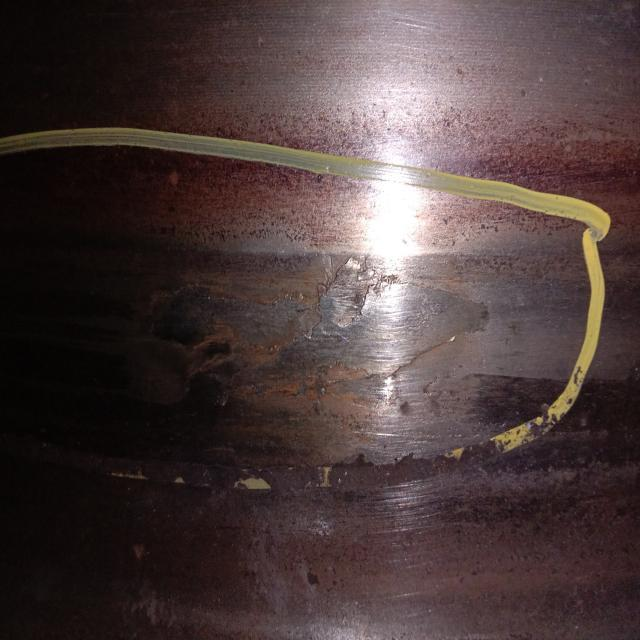Peeling: (319, 456, 485, 505), (309, 245, 387, 349)
